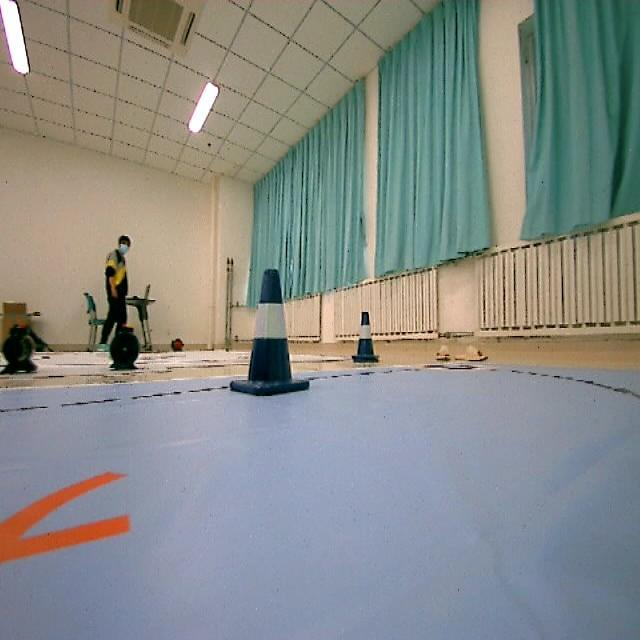obstacle: (231, 274, 316, 408), (349, 310, 383, 370)
